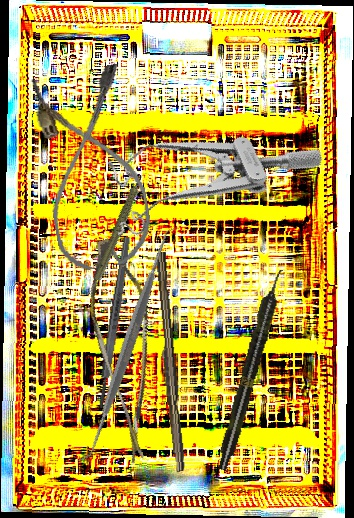Cannula: (29, 62, 157, 275)
Handpiece: (213, 266, 289, 473), (73, 170, 170, 283)
Micro Scissor: (56, 233, 198, 466)
Scalpel Handle: (149, 251, 189, 473), (95, 236, 133, 409)
Spatula Surgical: (10, 226, 246, 463)
Speculum: (87, 79, 326, 255)
